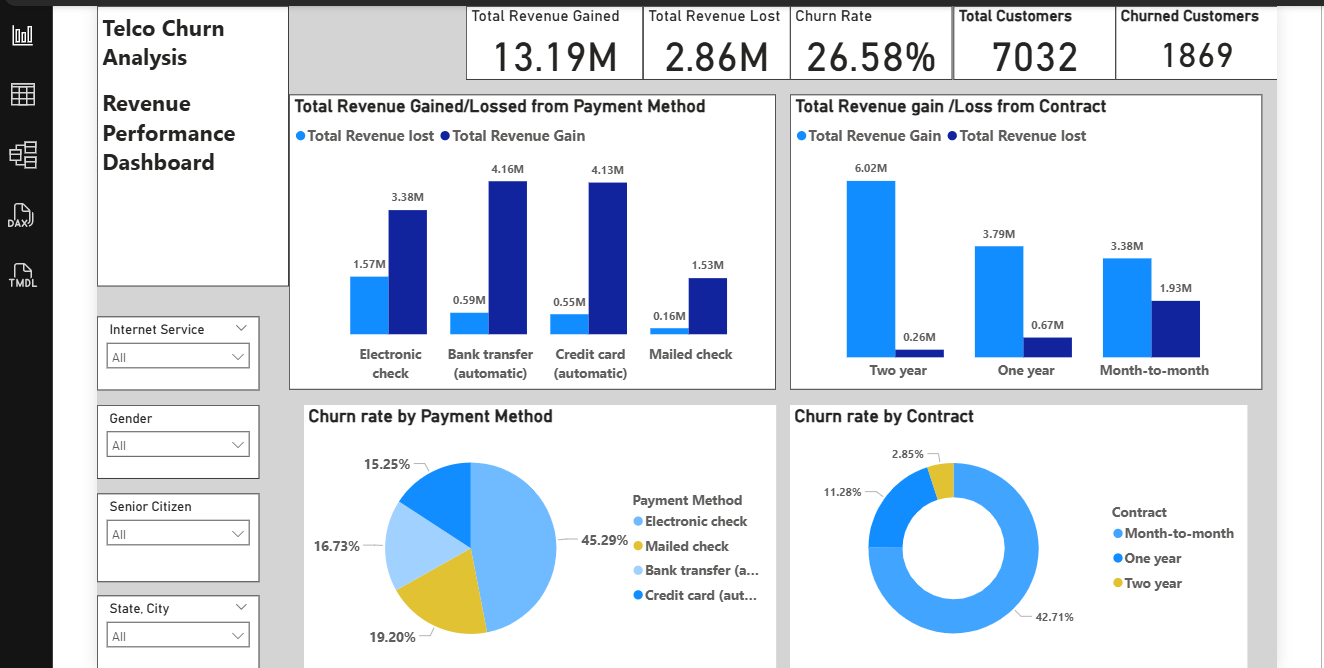

The dashboard page shown, as its layout file describes it:
{"tool":"powerbi","page":{"name":"Revenue Performance","canvas":[1280,720],"ordinal":0},"visuals":[{"type":"card","title":"Churn Rate","fields":{"Values":["My Measures.Churn rate"]},"box":[752,0,176,80],"z":0},{"type":"card","title":"Total Customers","fields":{"Values":["My Measures.Total Customers"]},"box":[928,0,176,80],"z":1000},{"type":"card","title":"Churned Customers","fields":{"Values":["My Measures.Total Churned customers"]},"box":[1104,0,176,80],"z":2000},{"type":"card","title":"Total Revenue Lost","fields":{"Values":["My Measures.Total Revenue lost"]},"box":[592,0,160,80],"z":3000},{"type":"clusteredColumnChart","title":"Total Revenue gain /Loss  from  Contract","fields":{"Category":["Telco Customer Churn.Contract"],"Y":["My Measures.Total Revenue Gain","My Measures.Total Revenue lost"]},"box":[752,96,512,320],"z":4000},{"type":"card","title":"Total Revenue Gained","fields":{"Values":["My Measures.Total Revenue"]},"box":[400,0,192,80],"z":5000},{"type":"clusteredColumnChart","title":"Total Revenue Gained/Lossed from Payment Method","fields":{"Category":["Telco Customer Churn.Payment Method"],"Y":["My Measures.Total Revenue lost","My Measures.Total Revenue Gain"]},"box":[208,96,528,320],"z":6000},{"type":"slicer","fields":{"Values":["Telco Customer Churn.State Hierarchy.State","Telco Customer Churn.State Hierarchy.City"]},"box":[0,640,176,80],"z":7000},{"type":"slicer","fields":{"Values":["Telco Customer Churn.Gender"]},"box":[0,432,176,80],"z":8000},{"type":"slicer","fields":{"Values":["Telco Customer Churn.Senior Citizen"]},"box":[0,528,176,96],"z":9000},{"type":"slicer","fields":{"Values":["Telco Customer Churn.Internet Service"]},"box":[0,336,176,80],"z":10000},{"type":"pieChart","fields":{"Category":["Telco Customer Churn.Payment Method"],"Y":["My Measures.Churn rate"]},"box":[224,432,512,288],"z":11000},{"type":"donutChart","fields":{"Category":["Telco Customer Churn.Contract"],"Y":["My Measures.Churn rate"]},"box":[752,432,496,288],"z":12000},{"type":"textbox","box":[0,0,208,304],"z":13000}]}

Visuals, with their boxes on the page's 1280x720 design canvas (x1, y1, x2, y2). These are canvas units, not pixel positions in the 1324x668 screenshot, which may show the page scaled, cropped or inside an application window:
"Churn Rate" card: 752, 0, 928, 80
"Total Customers" card: 928, 0, 1104, 80
"Churned Customers" card: 1104, 0, 1280, 80
"Total Revenue Lost" card: 592, 0, 752, 80
"Total Revenue gain /Loss  from  Contract" clusteredColumnChart: 752, 96, 1264, 416
"Total Revenue Gained" card: 400, 0, 592, 80
"Total Revenue Gained/Lossed from Payment Method" clusteredColumnChart: 208, 96, 736, 416
slicer - Telco Customer Churn.State Hierarchy.State x Telco Customer Churn.State Hierarchy.City: 0, 640, 176, 720
slicer - Telco Customer Churn.Gender: 0, 432, 176, 512
slicer - Telco Customer Churn.Senior Citizen: 0, 528, 176, 624
slicer - Telco Customer Churn.Internet Service: 0, 336, 176, 416
pieChart - Telco Customer Churn.Payment Method x My Measures.Churn rate: 224, 432, 736, 720
donutChart - Telco Customer Churn.Contract x My Measures.Churn rate: 752, 432, 1248, 720
textbox: 0, 0, 208, 304
